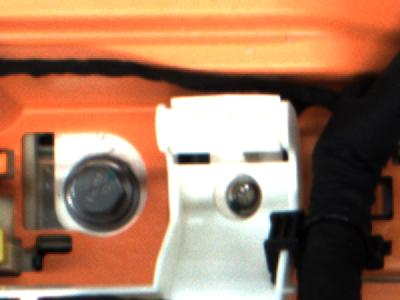nut_b: (65, 153, 141, 237)
